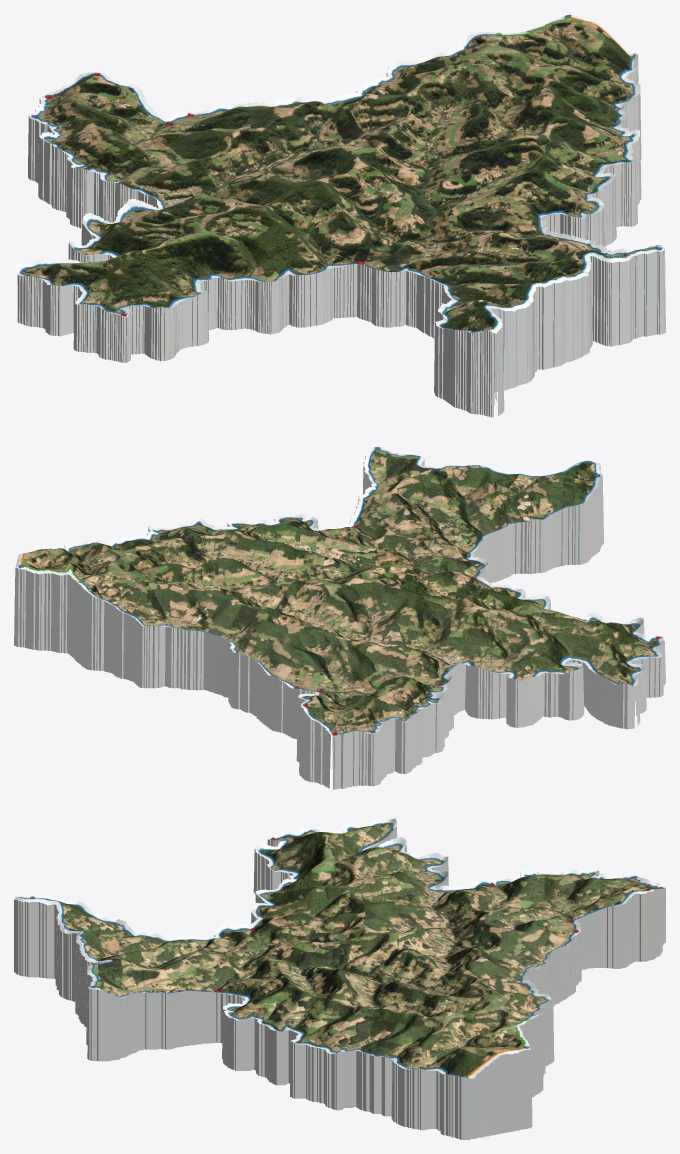
The picture shows the model from 3 angles, top to bottom: view 1: azimuth 30°, elevation 25°; view 2: azimuth 150°, elevation 25°; view 3: azimuth 270°, elevation 25°; orthographic projection. The views are drawn at different scales.
Size of the model in its own units: 0.9999 by 0.137 by 0.9869.
1 material, 1 textured.
